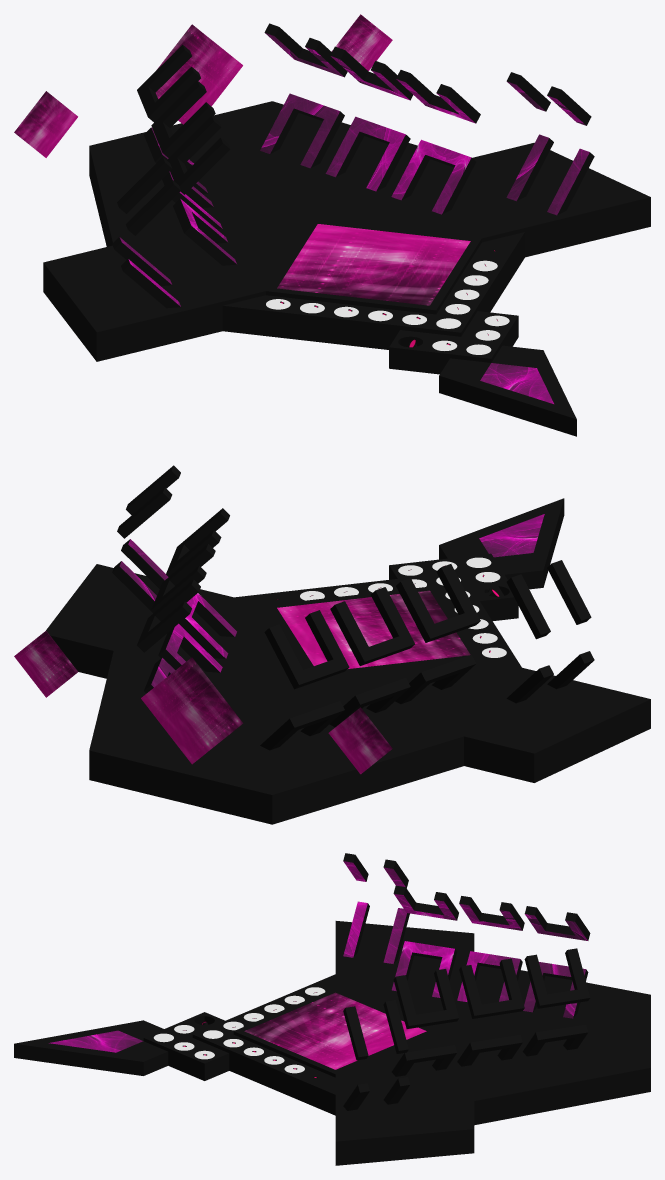
Rendered from Future House Dark Stage.obj.
The picture shows the model from 3 angles, top to bottom: view 1: azimuth 30°, elevation 25°; view 2: azimuth 150°, elevation 25°; view 3: azimuth 270°, elevation 25°; orthographic projection. The views are drawn at different scales.
Parts seen in each view (by area): view 1: Mesh1 Group1 Model, Mesh2 Group2 Model, Mesh8 Group5 Model, Mesh3 Group3 Model, Mesh83 Model, Mesh18 Group_Screens1 Model, Mesh16 Group_Screens1 Model, Mesh17 Group_Screens1 Model, Mesh81 Model, Mesh69 Group_Screens2 Model, Mesh68 Group_Screens2 Model, Mesh67 Group_Screens2 Model (+14 smaller); view 2: Mesh1 Group1 Model, Mesh2 Group2 Model, Mesh8 Group5 Model, Mesh83 Model, Mesh3 Group3 Model, Mesh69 Group_Screens2 Model, Mesh67 Group_Screens2 Model, Mesh68 Group_Screens2 Model, Mesh81 Model, Mesh82 Model, Mesh13 Group_Screens1 Model, Mesh18 Group_Screens1 Model (+14 smaller); view 3: Mesh1 Group1 Model, Mesh2 Group2 Model, Mesh8 Group5 Model, Mesh3 Group3 Model, Mesh13 Group_Screens1 Model, Mesh14 Group_Screens1 Model, Mesh15 Group_Screens1 Model, Mesh72 Group_Screens2 Model, Mesh68 Group_Screens2 Model, Mesh67 Group_Screens2 Model, Mesh69 Group_Screens2 Model, Mesh17 Group_Screens1 Model (+8 smaller).
Boxes of the visible parts, bbox=[...] form: Mesh1 Group1 Model: bbox=[43, 101, 650, 361]; Mesh2 Group2 Model: bbox=[222, 232, 524, 374]; Mesh8 Group5 Model: bbox=[277, 224, 470, 305]; Mesh3 Group3 Model: bbox=[439, 345, 576, 436]; Mesh83 Model: bbox=[155, 24, 242, 124]; Mesh18 Group_Screens1 Model: bbox=[391, 139, 475, 214]; Mesh16 Group_Screens1 Model: bbox=[260, 93, 344, 168]; Mesh17 Group_Screens1 Model: bbox=[325, 116, 410, 191]; Mesh81 Model: bbox=[14, 91, 77, 157]; Mesh69 Group_Screens2 Model: bbox=[167, 116, 230, 194]; Mesh68 Group_Screens2 Model: bbox=[151, 80, 215, 157]; Mesh67 Group_Screens2 Model: bbox=[137, 44, 200, 122]; Mesh1 Group1 Model: bbox=[46, 564, 650, 824]; Mesh2 Group2 Model: bbox=[234, 553, 521, 667]; Mesh8 Group5 Model: bbox=[277, 590, 470, 668]; Mesh83 Model: bbox=[141, 657, 243, 764]; Mesh3 Group3 Model: bbox=[439, 498, 564, 589]; Mesh69 Group_Screens2 Model: bbox=[396, 564, 480, 642]; Mesh67 Group_Screens2 Model: bbox=[264, 610, 349, 689]; Mesh68 Group_Screens2 Model: bbox=[330, 587, 414, 665]; Mesh81 Model: bbox=[328, 707, 392, 774]; Mesh82 Model: bbox=[14, 630, 77, 697]; Mesh13 Group_Screens1 Model: bbox=[137, 579, 200, 652]; Mesh18 Group_Screens1 Model: bbox=[179, 593, 236, 658]; Mesh1 Group1 Model: bbox=[233, 921, 650, 1165]; Mesh2 Group2 Model: bbox=[143, 974, 335, 1115]; Mesh8 Group5 Model: bbox=[244, 992, 426, 1069]; Mesh3 Group3 Model: bbox=[14, 1020, 168, 1075]; Mesh13 Group_Screens1 Model: bbox=[524, 948, 590, 1008]; Mesh14 Group_Screens1 Model: bbox=[459, 958, 524, 1018]; Mesh15 Group_Screens1 Model: bbox=[393, 969, 458, 1028]; Mesh72 Group_Screens2 Model: bbox=[391, 941, 456, 997]; Mesh68 Group_Screens2 Model: bbox=[459, 896, 524, 930]; Mesh67 Group_Screens2 Model: bbox=[524, 906, 590, 940]; Mesh69 Group_Screens2 Model: bbox=[393, 885, 458, 920]; Mesh17 Group_Screens1 Model: bbox=[457, 1034, 522, 1066].
Size of the model in its own units: 20.03 by 5.28 by 24.39.
